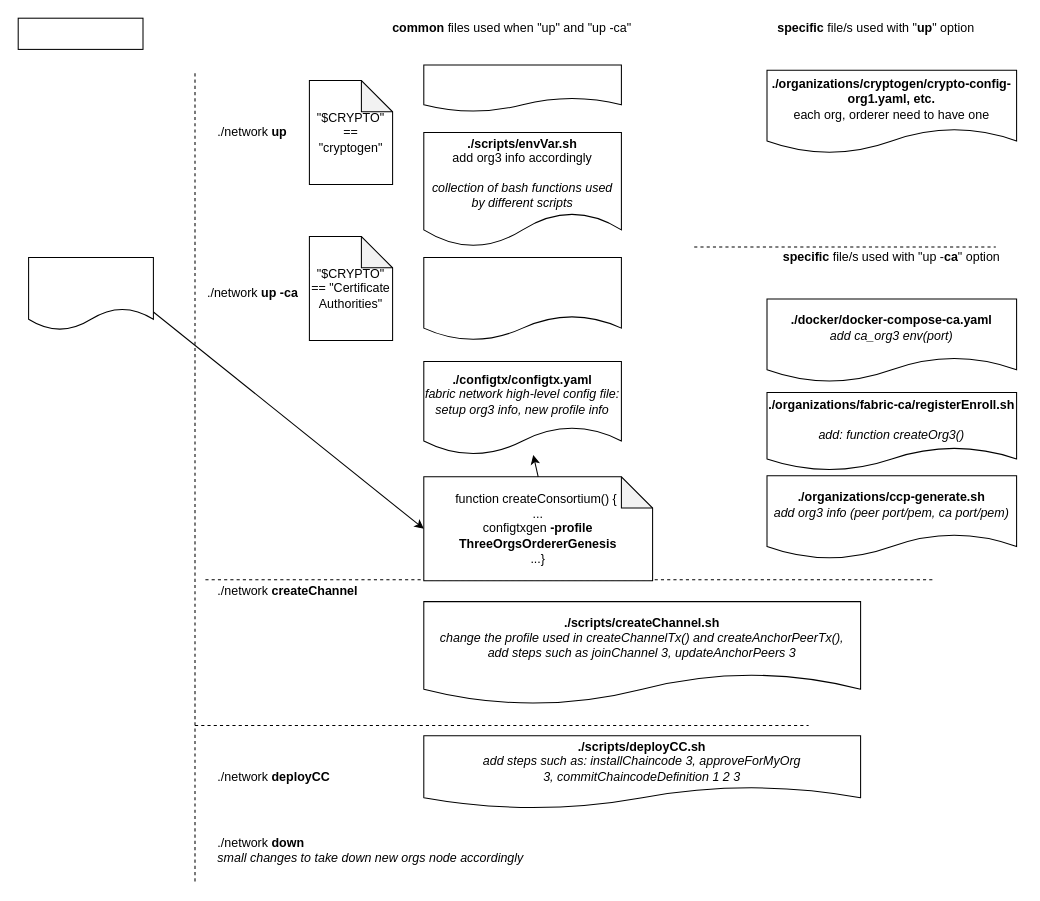
Image size: 1040x901. Some labels were removed from this diagram. The box of each missing label's shape, as (x1, y1, x2, y2) in pixels:
$PWD: test-network: (17, 17, 143, 49)
./docker/docker-compose-test-net.yaml setup peer node docker configuration: (423, 256, 621, 341)
./network.sh: (28, 256, 153, 330)
./scriptUtils.sh helper script: (423, 64, 621, 112)
